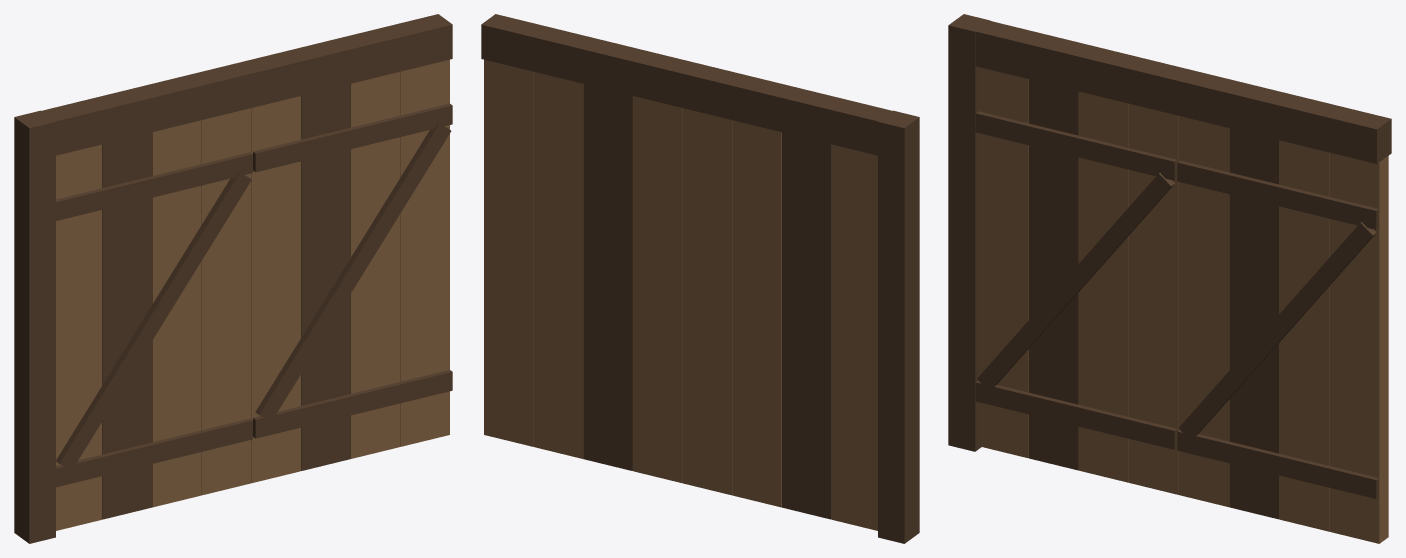
The model's file is threshing_doors.glb.
3 views of the same model, side by side, from view 1: azimuth 30°, elevation 25°; view 2: azimuth 150°, elevation 25°; view 3: azimuth 330°, elevation 25° (orthographic).
Parts seen in each view (by area): view 1: Threshing doors; view 2: Threshing doors; view 3: Threshing doors.
Boxes of the visible parts, <box> form: Threshing doors: <box>14,14,452,543</box>; Threshing doors: <box>481,14,919,543</box>; Threshing doors: <box>948,14,1391,543</box>.
Size of the model in its own units: 2 by 1.88 by 0.133.
